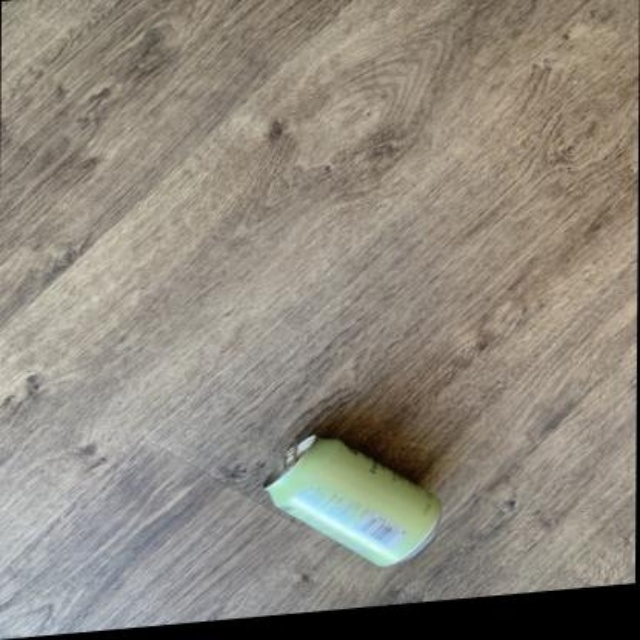trash: (265, 438, 438, 565)
